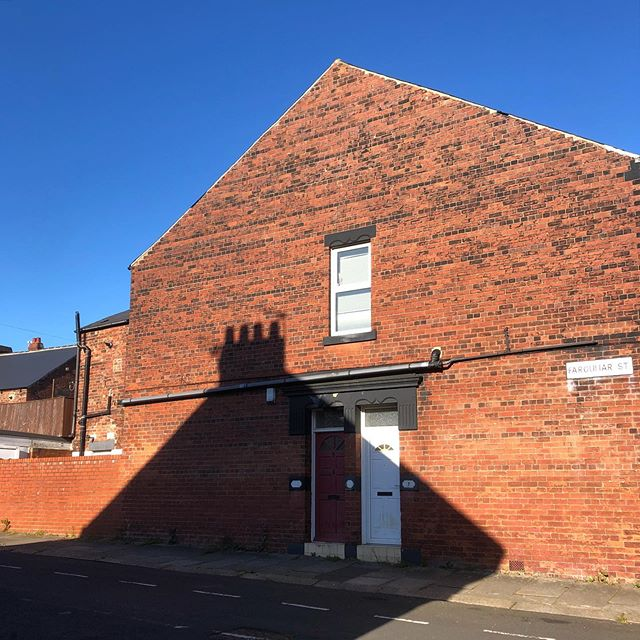building: (100, 49, 640, 579)
sky: (11, 1, 640, 132), (1, 1, 146, 277)
street: (7, 564, 640, 640)
